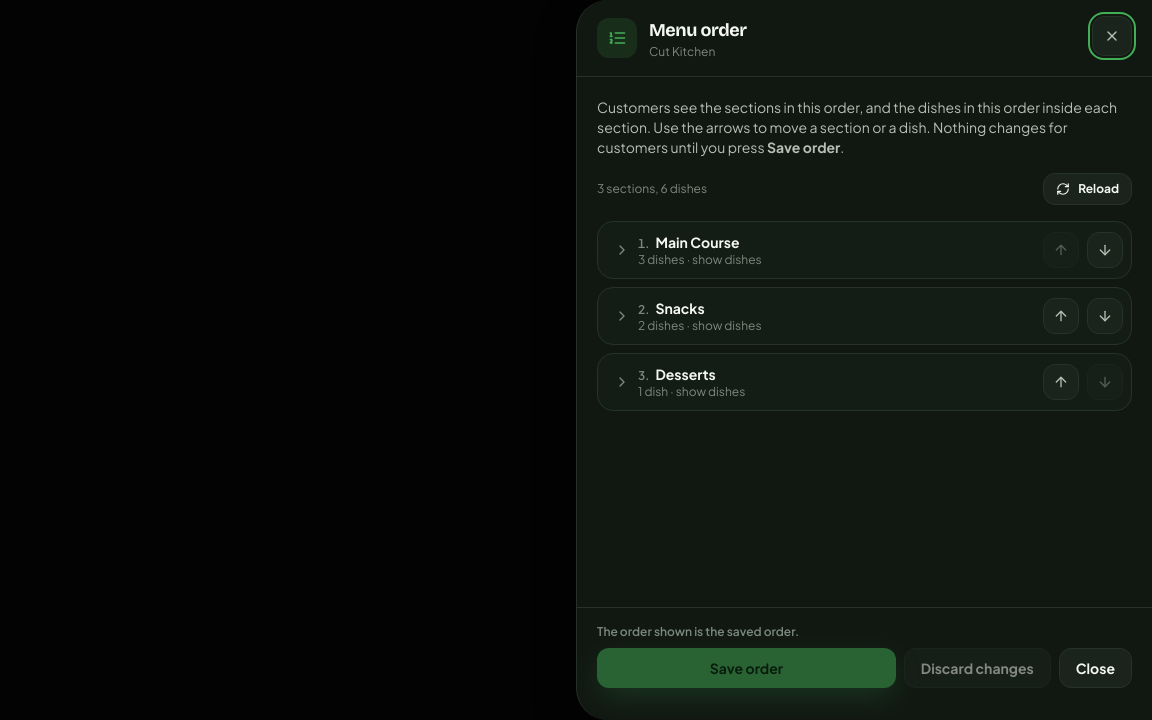
it: reordering dishes › dishes show when a section is opened; up and down move inside the section only
What coordinates should you click on to do the following:
click the button "1.Main Course 3 dishes · show dishes"
I would click on:
 (697, 242)
Its box is [606,230,1035,270].
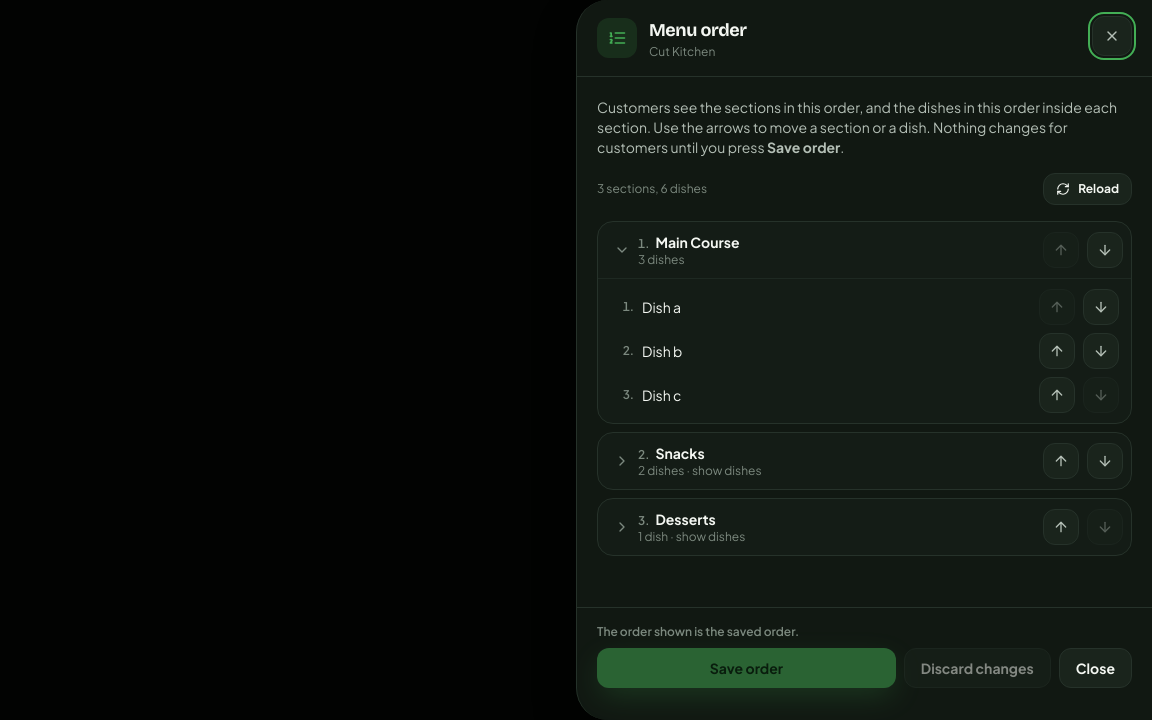
What coordinates should you click on to do the following:
click the button named "Move Dish c up"
I would click on:
 (1057, 395)
Its box is [1039,377,1075,413].
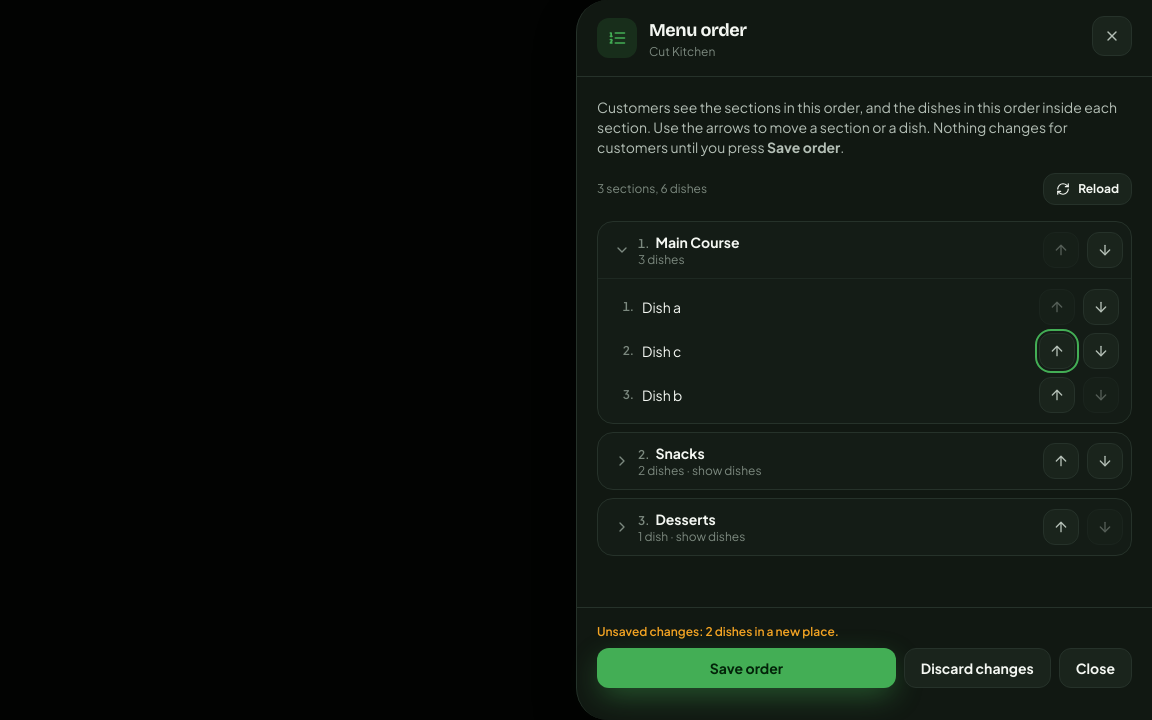
expect the message with test id "order-status" reads "Unsaved changes: 2 dishes in a new place.": met, box [597,624,839,639]
